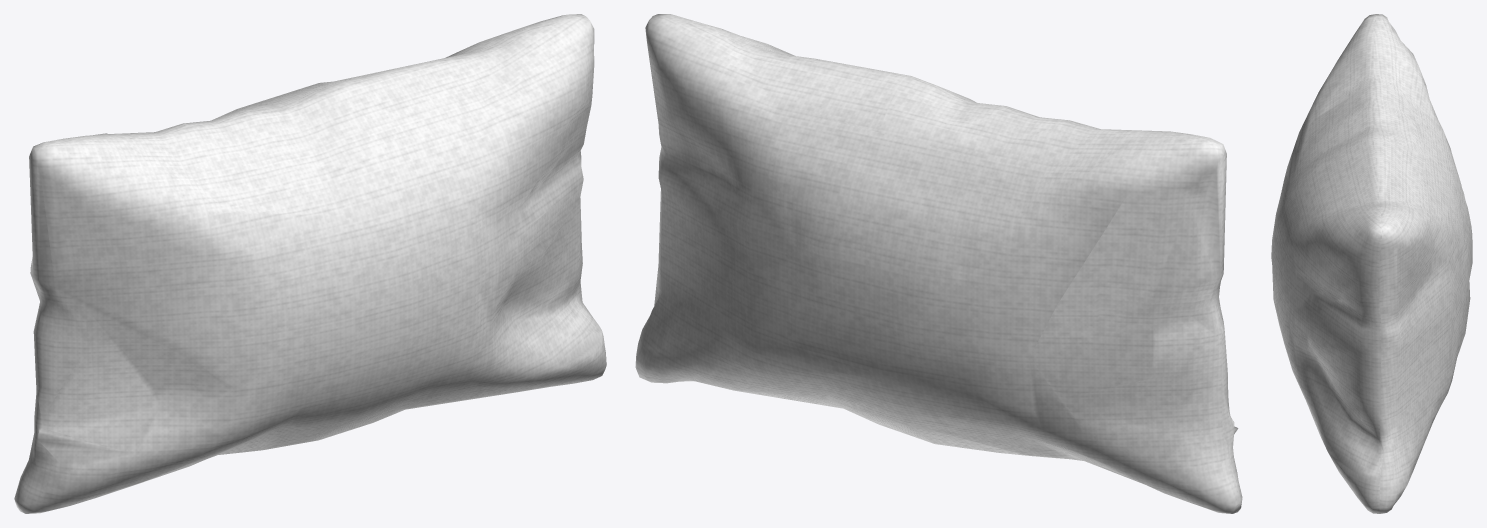
File: Pillows_1.fbx
3 renders of one model, left to right at view 1: azimuth 30°, elevation 25°; view 2: azimuth 150°, elevation 25°; view 3: azimuth 270°, elevation 25°, orthographic. The views are drawn at different scales.
Visible parts, largest first — view 1: Cube.005; view 2: Cube.005; view 3: Cube.005.
Boxes of the visible parts, x1,y1,x2,y2 form: Cube.005: [14, 14, 606, 513]; Cube.005: [635, 14, 1242, 513]; Cube.005: [1271, 14, 1472, 513].
Size of the model in its own units: 96.88 by 57.55 by 36.55.
